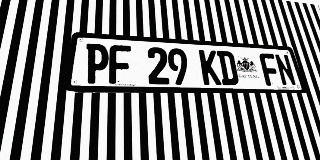2: (147, 47, 169, 84)
9: (167, 48, 190, 85)
D: (216, 51, 240, 85)
F: (109, 45, 131, 84), (258, 53, 282, 86)
K: (199, 50, 222, 85)
N: (274, 54, 297, 86)
P: (84, 43, 109, 84)
